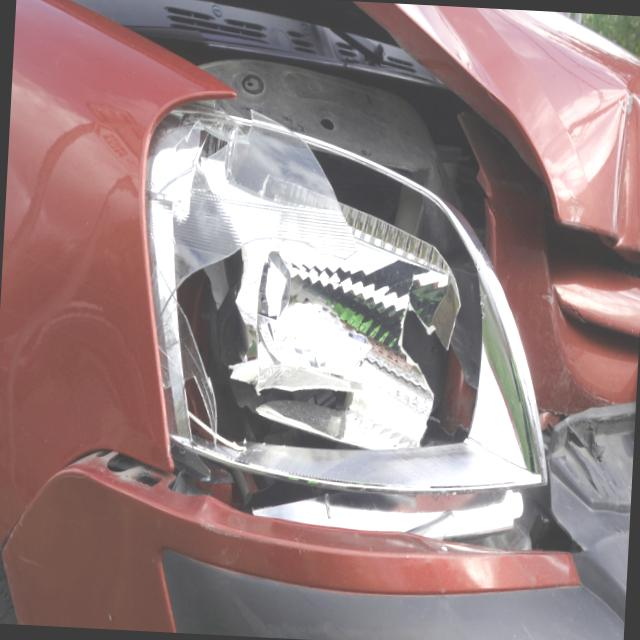Dechirure: (0, 431, 174, 591)
Phare abime: (141, 103, 547, 532)
